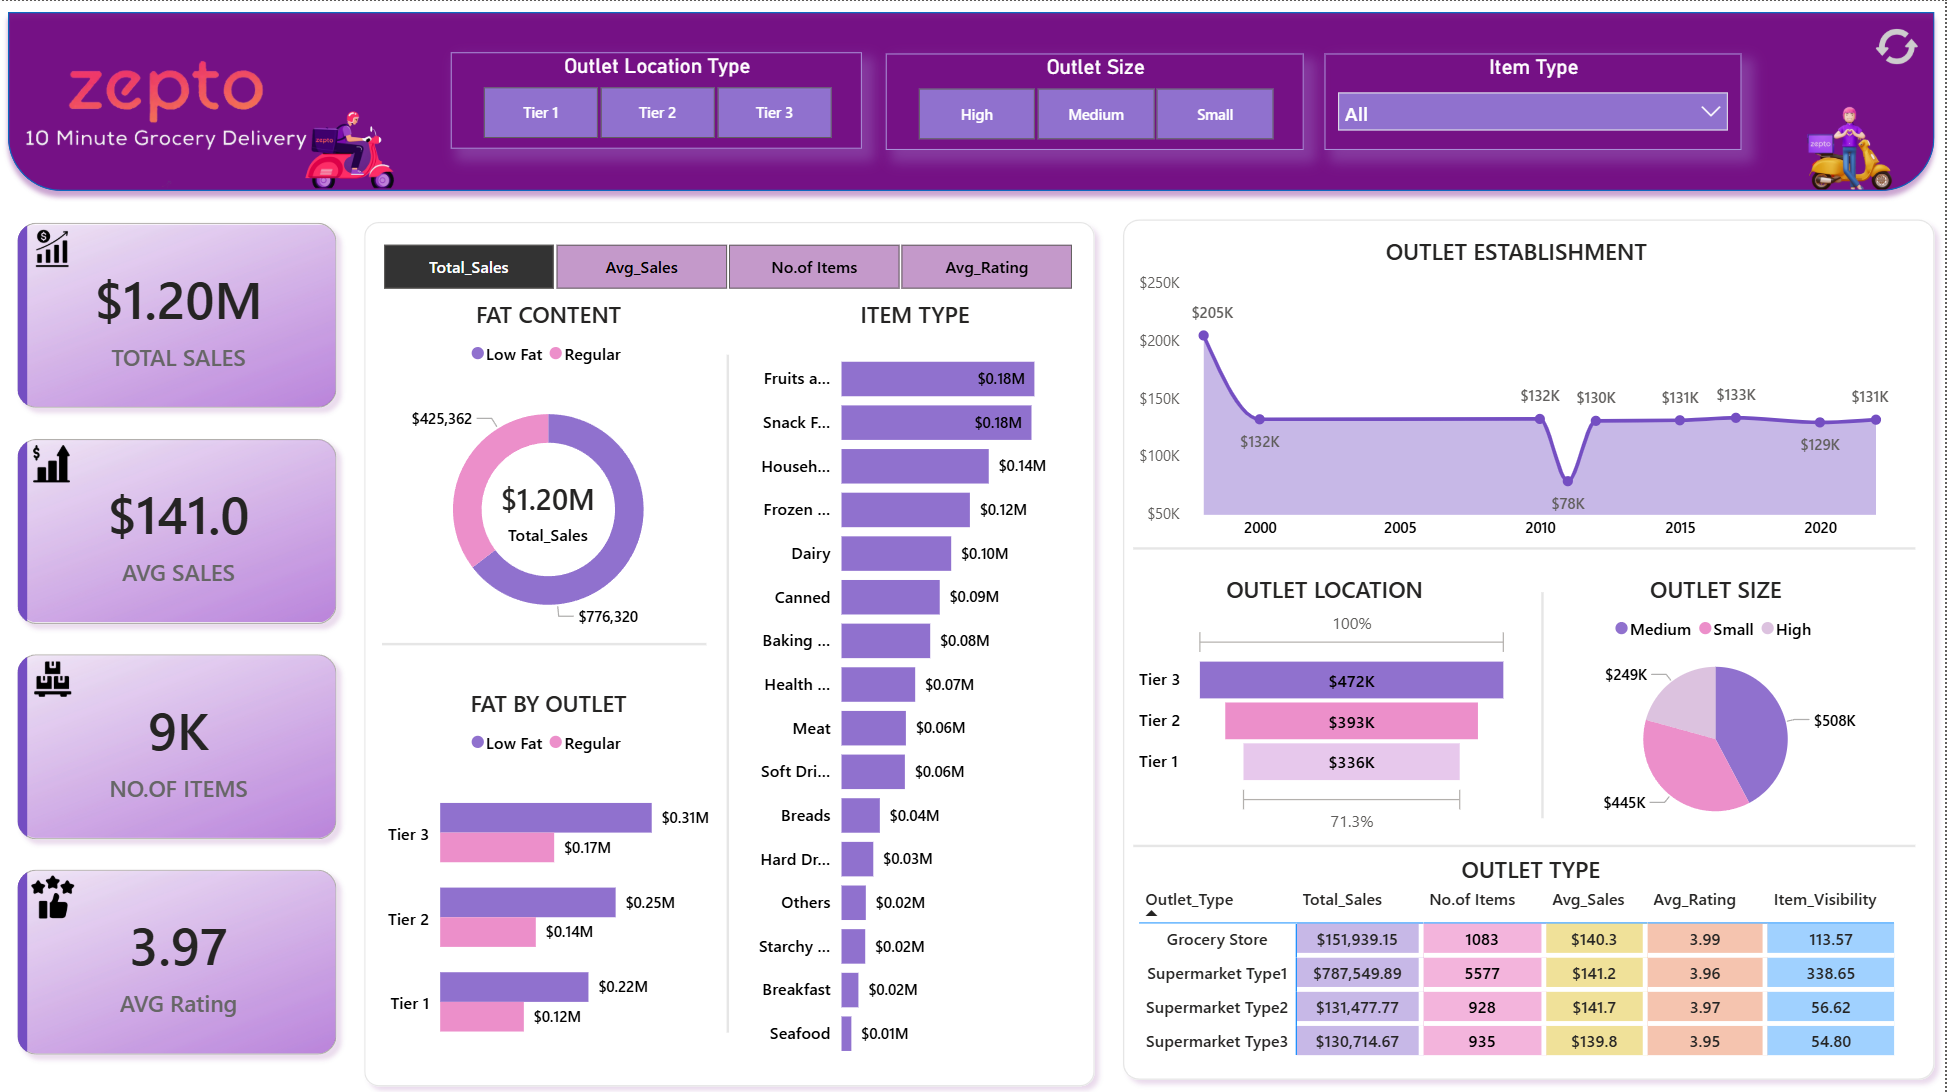

Layout of this report page (visuals, bound fields, positions):
{"tool":"powerbi","page":{"name":"Page 1","canvas":[1600,900],"ordinal":0},"visuals":[{"type":"shape","box":[0,0,1600,165],"z":0},{"type":"shape","box":[292.2,172.2,617.8,727.8],"z":1000},{"type":"shape","box":[915.6,170,684.4,724.4],"z":2000},{"type":"image","box":[16.4,16.4,245.7,141.4],"z":3000},{"type":"image","box":[236.1,70,107.8,105],"z":4000},{"type":"image","box":[1458.2,52.4,128.2,130.6],"z":5000},{"type":"cardVisual","fields":{"Data":["Zepto_Grocery_Data.Total_Sales","Zepto_Grocery_Data.Avg_Sales","Zepto_Grocery_Data.No.of Items","Zepto_Grocery_Data.Avg_Rating"]},"box":[0,165,296,719],"z":6000},{"type":"image","box":[22.7,182.8,45.3,41.2],"z":7000},{"type":"image","box":[21.9,359.2,45.7,41.4],"z":8000},{"type":"image","box":[22.6,536.7,45.8,40],"z":9000},{"type":"image","box":[22.7,713.3,46,44.7],"z":10000},{"type":"donutChart","title":"FAT CONTENT","fields":{"Y":["Zepto_Grocery_Data.Total_Sales"],"Category":["Zepto_Grocery_Data.Item_Fat_Content"]},"box":[315.6,244.4,275.6,292.2],"z":11000},{"type":"slicer","fields":{"Values":["Metrics.Metrics"]},"box":[291.8,192.7,615.5,50],"z":12000},{"type":"clusteredBarChart","title":"FAT BY OUTLET","fields":{"Y":["Zepto_Grocery_Data.Total_Sales","select"],"Category":["Zepto_Grocery_Data.Outlet_Location_Type"],"Series":["Zepto_Grocery_Data.Item_Fat_Content"]},"box":[315.6,563.3,275.6,318.9],"z":13000},{"type":"barChart","title":"ITEM TYPE","fields":{"Y":["Zepto_Grocery_Data.Total_Sales"],"Category":["Zepto_Grocery_Data.Item_Type"]},"box":[608.9,244.4,290,637.8],"z":14000},{"type":"card","title":"FAT CONTENT","fields":{"Values":["Zepto_Grocery_Data.Total_Sales"]},"box":[380,368.9,145.6,101.1],"z":15000},{"type":"lineChart","title":"OUTLET ESTABLISHMENT","fields":{"Y":["Zepto_Grocery_Data.Total_Sales"],"Category":["Zepto_Grocery_Data.Outlet_Establishment_Year"]},"box":[932.7,192.7,629.1,258.2],"z":16000},{"type":"pieChart","title":"OUTLET SIZE","fields":{"Y":["Zepto_Grocery_Data.Total_Sales"],"Category":["Zepto_Grocery_Data.Outlet_Size"]},"box":[1247.2,470.1,328.5,217.6],"z":17000},{"type":"funnel","title":"OUTLET LOCATION","fields":{"Y":["Zepto_Grocery_Data.Total_Sales"],"Category":["Zepto_Grocery_Data.Outlet_Location_Type"]},"box":[933.1,470.1,314.1,217.6],"z":18000},{"type":"pivotTable","title":"OUTLET TYPE","fields":{"Rows":["Zepto_Grocery_Data.Outlet_Type"],"Values":["Zepto_Grocery_Data.Total_Sales","Zepto_Grocery_Data.No.of Items","Zepto_Grocery_Data.Avg_Sales","Zepto_Grocery_Data.Avg_Rating","Sum(Zepto_Grocery_Data.Item_Visibility)"]},"box":[933.1,700,652.8,180.7],"z":19000},{"type":"shape","box":[591.1,290,17.8,556.7],"z":20000},{"type":"shape","box":[315.8,521.7,266.7,13.3],"z":21000},{"type":"shape","box":[1257.8,485.6,23.3,185.6],"z":22000},{"type":"shape","box":[933.3,687.8,642.2,12.2],"z":23000},{"type":"shape","box":[933.3,443.3,642.2,12.2],"z":24000},{"type":"slicer","title":"Outlet Location Type","fields":{"Values":["Zepto_Grocery_Data.Outlet_Location_Type"]},"box":[372.2,42.2,337.8,78.9],"z":25000},{"type":"slicer","title":"Outlet Size","fields":{"Values":["Zepto_Grocery_Data.Outlet_Size"]},"box":[730,43.3,343.3,78.9],"z":26000},{"type":"slicer","title":"Item Type","fields":{"Values":["Zepto_Grocery_Data.Item_Type"]},"box":[1090,43.3,342.2,78.9],"z":27000},{"type":"image","box":[1532.2,15.6,54.4,44.4],"z":28000}]}

Visuals, with their boxes in screenshot pixels (x1, y1, x2, y2), scaled from the page's 1600x900 canvas onto the 1948x1092 screenshot:
shape: locate(0, 0, 1947, 200)
shape: locate(356, 209, 1108, 1091)
shape: locate(1115, 206, 1947, 1085)
image: locate(20, 20, 319, 191)
image: locate(287, 85, 419, 212)
image: locate(1775, 64, 1931, 222)
cardVisual - Zepto_Grocery_Data.Total_Sales x Zepto_Grocery_Data.Avg_Sales: locate(0, 200, 360, 1073)
image: locate(28, 222, 83, 272)
image: locate(27, 436, 82, 486)
image: locate(28, 651, 83, 700)
image: locate(28, 865, 84, 920)
"FAT CONTENT" donutChart: locate(384, 297, 720, 651)
slicer - Metrics.Metrics: locate(355, 234, 1105, 294)
"FAT BY OUTLET" clusteredBarChart: locate(384, 683, 720, 1070)
"ITEM TYPE" barChart: locate(741, 297, 1094, 1070)
"FAT CONTENT" card: locate(463, 448, 640, 570)
"OUTLET ESTABLISHMENT" lineChart: locate(1136, 234, 1901, 547)
"OUTLET SIZE" pieChart: locate(1518, 570, 1918, 834)
"OUTLET LOCATION" funnel: locate(1136, 570, 1518, 834)
"OUTLET TYPE" pivotTable: locate(1136, 849, 1931, 1069)
shape: locate(720, 352, 741, 1027)
shape: locate(384, 633, 709, 649)
shape: locate(1531, 589, 1560, 814)
shape: locate(1136, 835, 1918, 849)
shape: locate(1136, 538, 1918, 553)
"Outlet Location Type" slicer: locate(453, 51, 864, 147)
"Outlet Size" slicer: locate(889, 53, 1307, 148)
"Item Type" slicer: locate(1327, 53, 1744, 148)
image: locate(1865, 19, 1932, 73)
